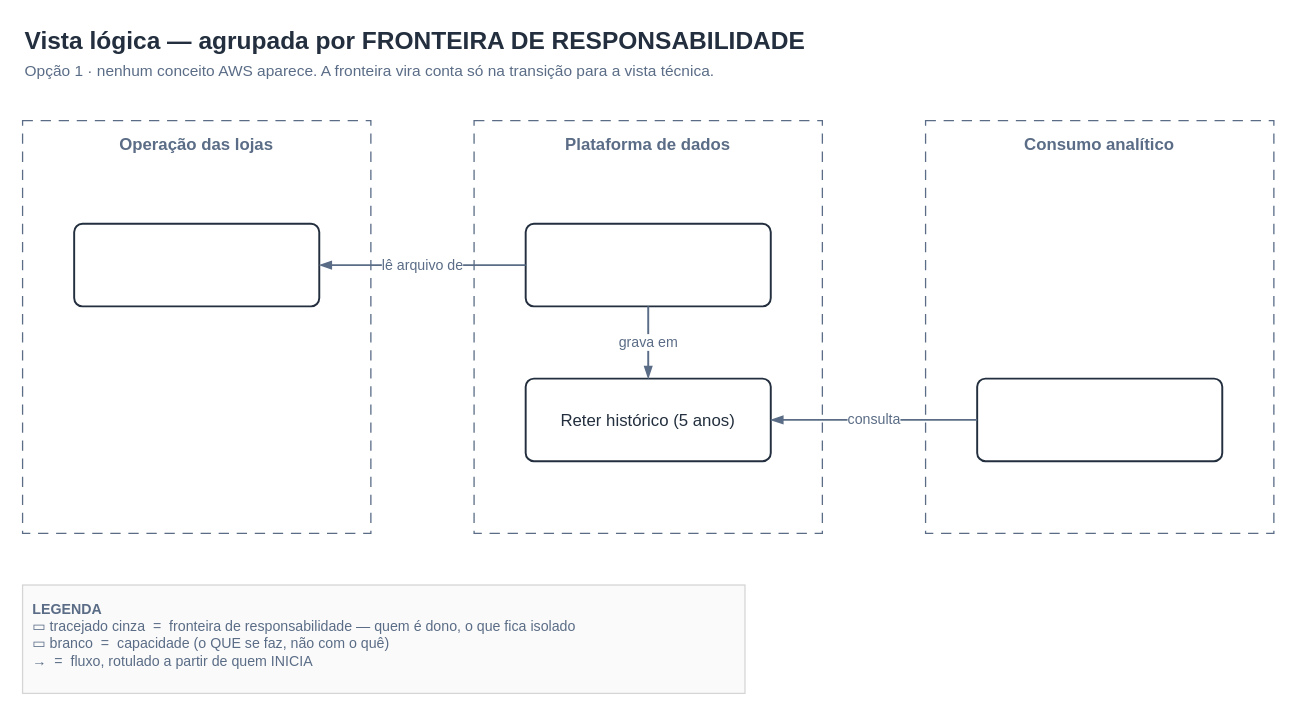
The diagram is 1296 pixels wide and 716 high, and some of its shapes have lost their labels. The centre of each missing label's shape, as x and y in pixels:
"Processar na chegada" goes at [647,264].
"Receber entrega das lojas" goes at [196,264].
"Servir painel à diretoria" goes at [1099,419].
